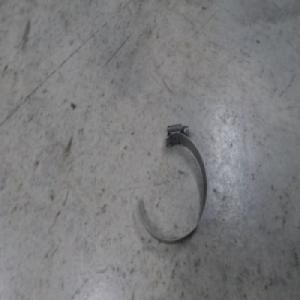AdjustableClamp: (136, 123, 208, 243)
